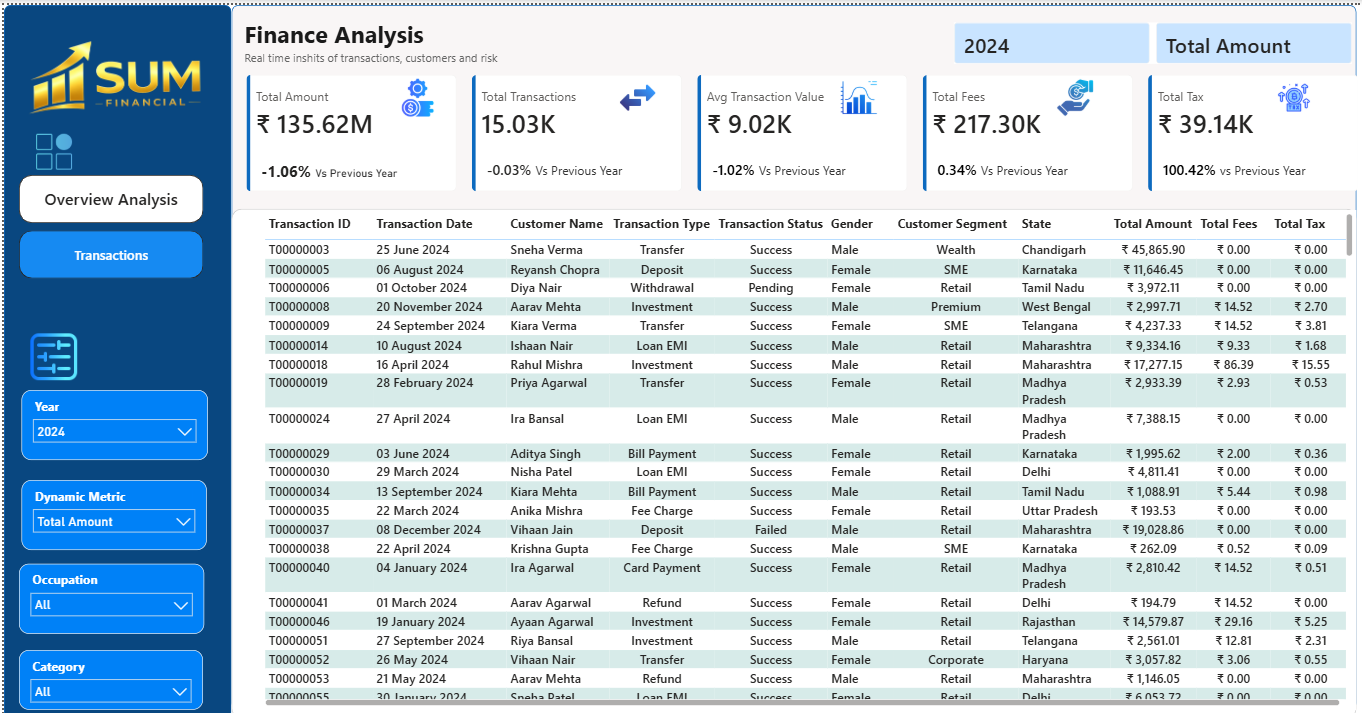

The dashboard page shown, as its layout file describes it:
{"tool":"powerbi","page":{"name":"Transactions","canvas":[1800,950],"ordinal":1},"visuals":[{"type":"shape","box":[0,0,298.7,937.2],"z":0},{"type":"shape","box":[298.7,0,1477.2,925.7],"z":1000},{"type":"cardVisual","fields":{"Data":["finance_transactions.Dashboard Title"]},"box":[298.7,0,914.2,96.8],"z":2000},{"type":"cardVisual","fields":{"Data":["finance_transactions.Total Amount","finance_transactions.Total Transactions","finance_transactions.Avg Transaction Value","finance_transactions.Total Fees","finance_transactions.Total Tax"]},"box":[311.9,85.3,1475.6,165.8],"z":3000},{"type":"image","box":[505.5,96.8,75.5,49.2],"z":4000},{"type":"image","box":[794.4,96.8,75.5,49.2],"z":5000},{"type":"image","box":[1084.9,96.8,75.5,49.2],"z":6000},{"type":"image","box":[1368.9,96.8,75.5,49.2],"z":7000},{"type":"image","box":[1656.1,96.8,75.5,49.2],"z":8000},{"type":"cardVisual","fields":{"Data":["finance_transactions.Selected Year","finance_transactions.Selected Dynamic Measure"]},"box":[1242.5,18.1,533.4,64],"z":9000},{"type":"shape","box":[298.7,267.5,1477.2,669.7],"z":10000},{"type":"tableEx","fields":{"Values":["finance_transactions.transaction_id","finance_transactions.transaction_date","customers.customer_name","finance_transactions.transaction_type","finance_transactions.transaction_status","customers.gender","customers.customer_segment","customers.state","finance_transactions.Total Amount","finance_transactions.Total Fees","finance_transactions.Total Tax"]},"box":[336.5,269.2,1439.5,656.5],"z":11000},{"type":"slicer","fields":{"Values":["Calender Table.Year"]},"box":[23,505.5,244.6,91.9],"z":12000},{"type":"slicer","fields":{"Values":["Dynamic Metric.Dynamic Metric"]},"box":[23,623.7,242.9,91.9],"z":13000},{"type":"slicer","fields":{"Values":["customers.occupation"]},"box":[19.7,733.7,242.9,91.9],"z":14000},{"type":"slicer","fields":{"Values":["finance_transactions.merchant_category"]},"box":[19.7,846.9,241.3,78.8],"z":15000},{"type":"pageNavigator","box":[19.7,223.2,242.9,137.9],"z":16000},{"type":"image","box":[23,169.1,85.3,47.6],"z":16002},{"type":"image","box":[23,426.7,85.3,70.6],"z":16003},{"type":"image","box":[19.7,18.1,257.7,151],"z":16004}]}

Visuals, with their boxes on the page's 1800x950 design canvas (x1, y1, x2, y2). These are canvas units, not pixel positions in the 1362x713 screenshot, which may show the page scaled, cropped or inside an application window:
shape: (0, 0, 299, 937)
shape: (299, 0, 1776, 926)
cardVisual - finance_transactions.Dashboard Title: (299, 0, 1213, 97)
cardVisual - finance_transactions.Total Amount x finance_transactions.Total Transactions: (312, 85, 1788, 251)
image: (506, 97, 581, 146)
image: (794, 97, 870, 146)
image: (1085, 97, 1160, 146)
image: (1369, 97, 1444, 146)
image: (1656, 97, 1732, 146)
cardVisual - finance_transactions.Selected Year x finance_transactions.Selected Dynamic Measure: (1242, 18, 1776, 82)
shape: (299, 268, 1776, 937)
tableEx - finance_transactions.transaction_id x finance_transactions.transaction_date: (336, 269, 1776, 926)
slicer - Calender Table.Year: (23, 506, 268, 597)
slicer - Dynamic Metric.Dynamic Metric: (23, 624, 266, 716)
slicer - customers.occupation: (20, 734, 263, 826)
slicer - finance_transactions.merchant_category: (20, 847, 261, 926)
pageNavigator: (20, 223, 263, 361)
image: (23, 169, 108, 217)
image: (23, 427, 108, 497)
image: (20, 18, 277, 169)
